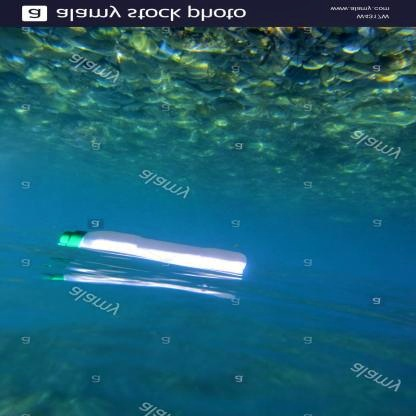pbottle: (52, 223, 252, 281)
